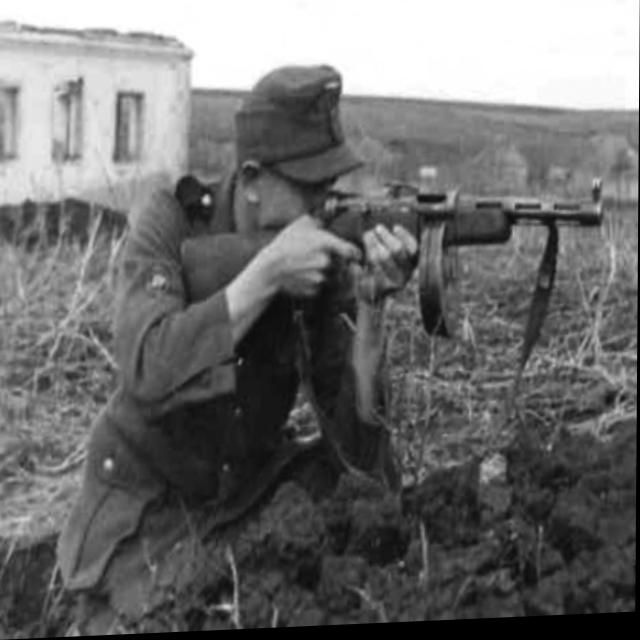other: (117, 73, 417, 634)
